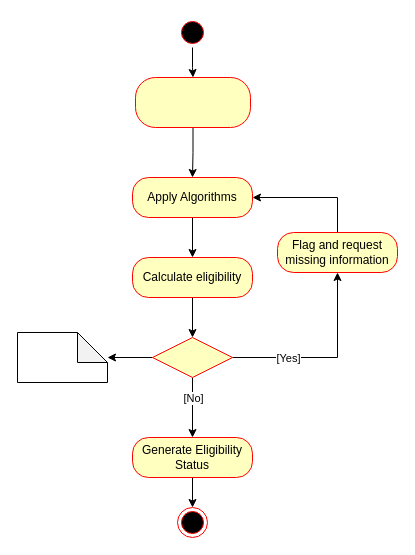
Some shapes in this 415 by 555 pixel diagram are drawn without their labels. The centre of each missing label's shape, as x and y in pixels:
Any necessary data missing?: (x=62, y=357)
Loan Processing System retrieve applicant's details: (x=192, y=102)
